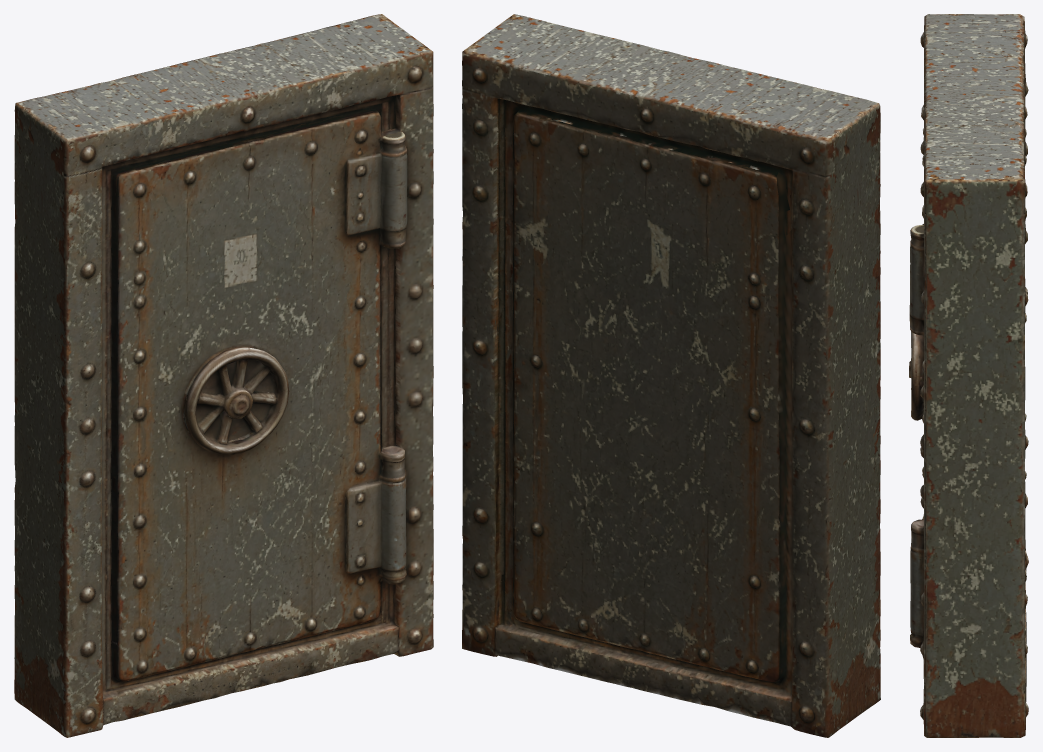
The model's file is BKI_Door.fbx.
3 views of the same model, side by side, from view 1: azimuth 30°, elevation 25°; view 2: azimuth 150°, elevation 25°; view 3: azimuth 270°, elevation 25° (orthographic). The views are drawn at different scales.
Visible parts, largest first — view 1: texture_mapping; view 2: texture_mapping; view 3: texture_mapping.
Part boxes in pixels (<box>): texture_mapping: <box>14,14,433,737</box>; texture_mapping: <box>462,14,880,737</box>; texture_mapping: <box>909,14,1028,737</box>.
Bounding box in the file's own units: 0.645 × 0.1946 × 1.
Materials: 1 (1 with a texture image).
